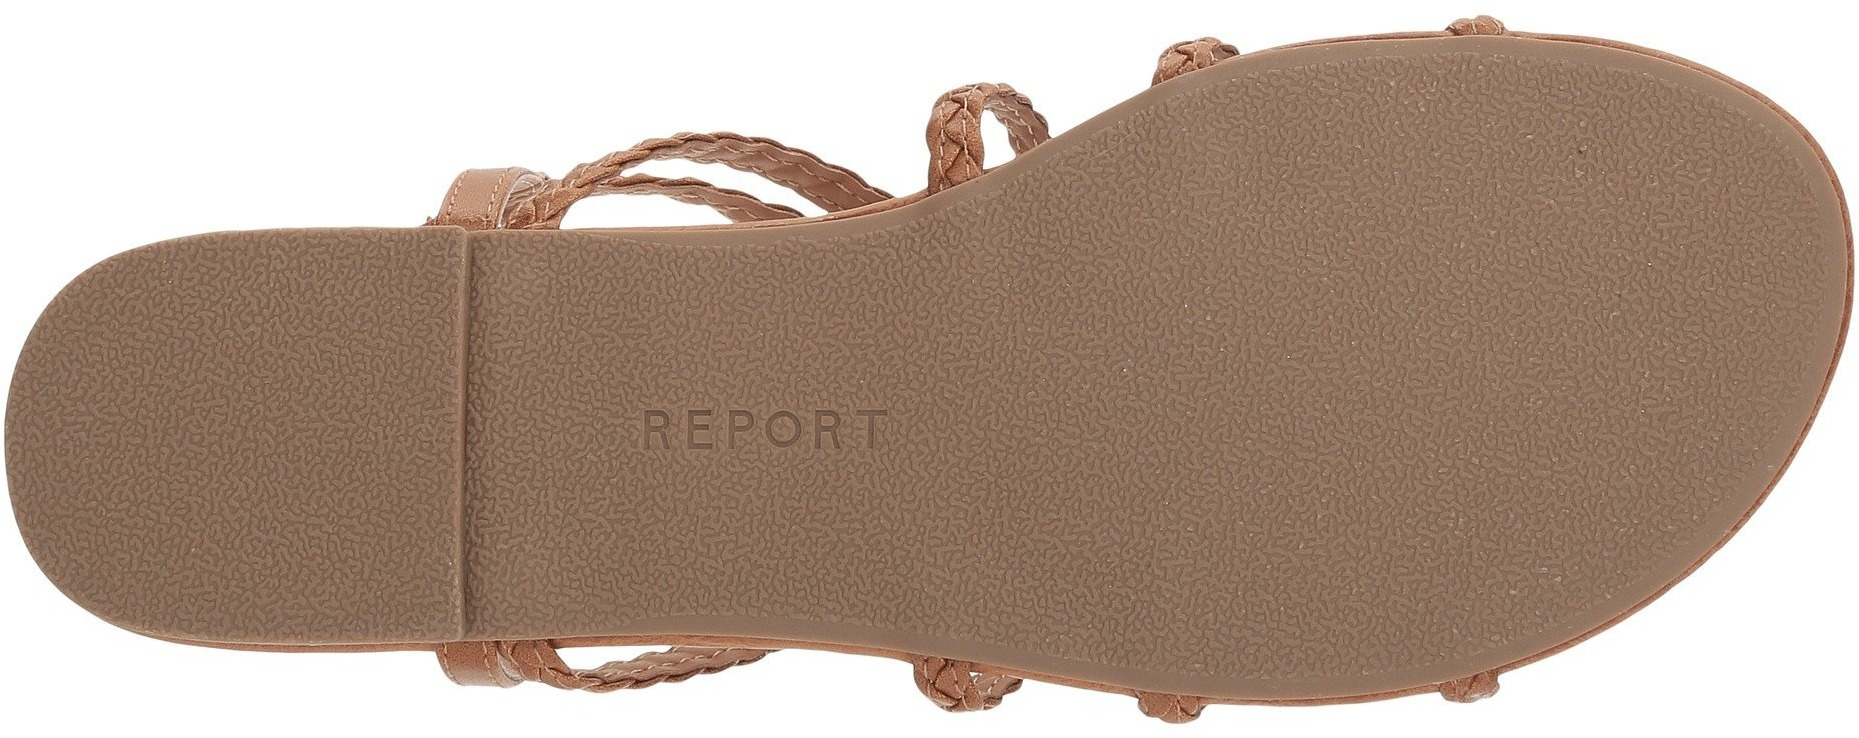circle: (631, 389, 901, 469)
other: (918, 58, 1841, 685), (469, 224, 925, 661), (11, 231, 465, 643), (1090, 215, 1475, 573)
text: (631, 389, 901, 469)
